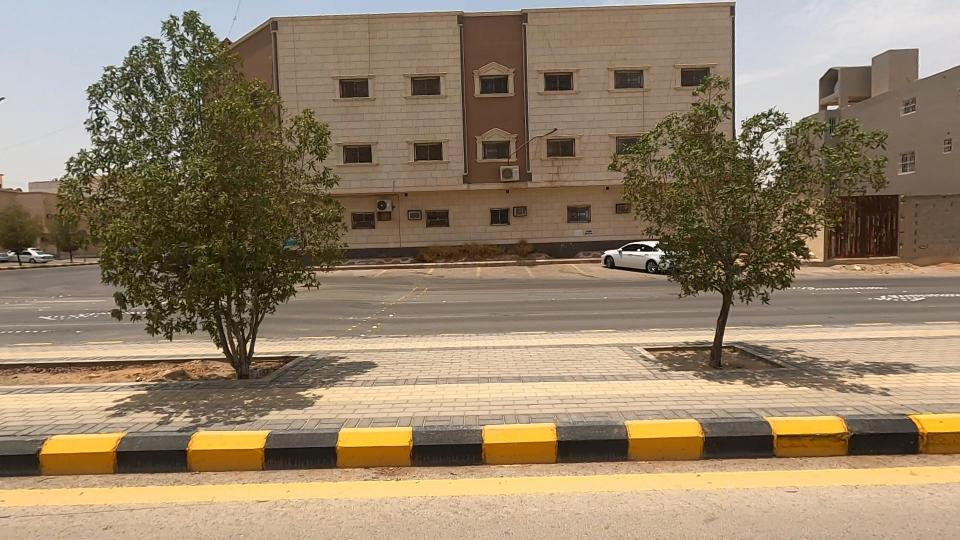CLUTTER_SIDEWALK: (0, 300, 335, 433)
